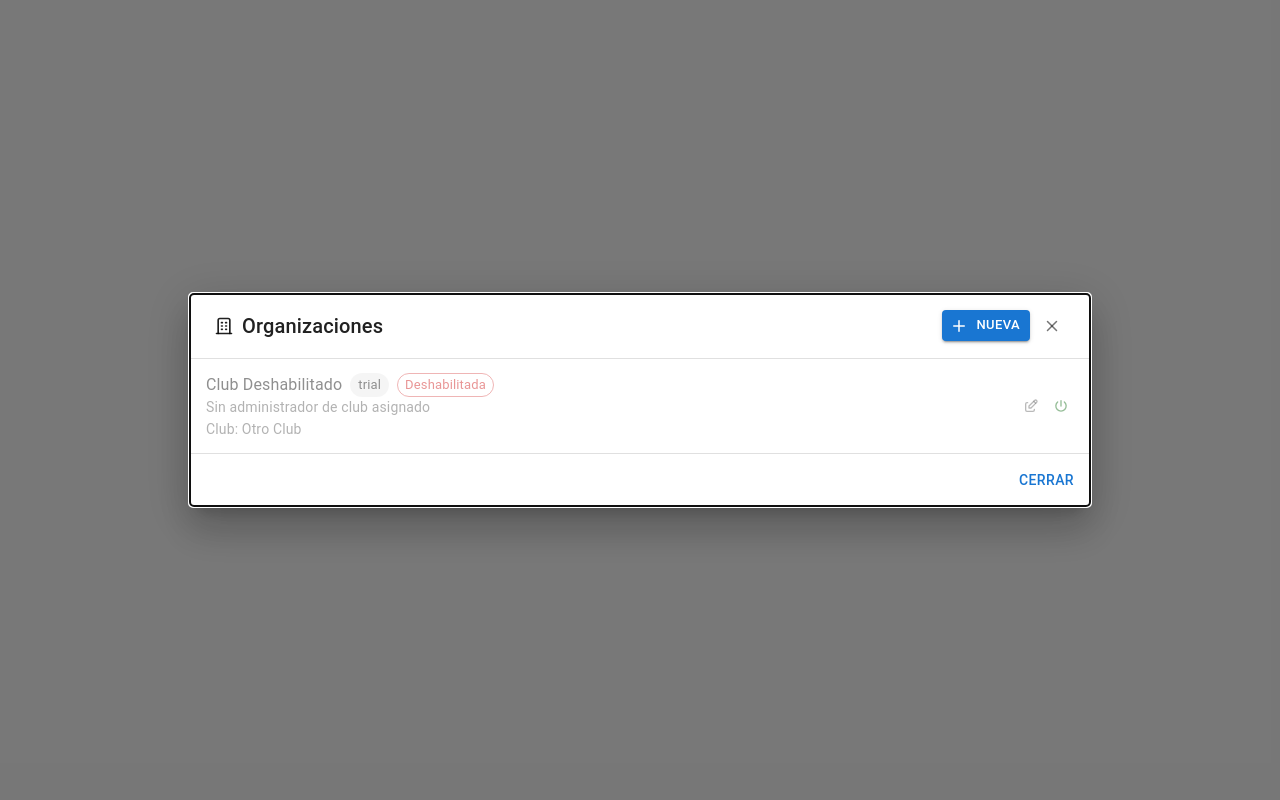
OrganizationsDialog › abre diálogo de confirmación con aviso de restauración manual al habilitar
Expected: the text "Club Deshabilitado" is shown, [206, 375, 342, 394]
Click the button named "Habilitar organización". click: (1061, 406)
box: [1048, 393, 1074, 419]
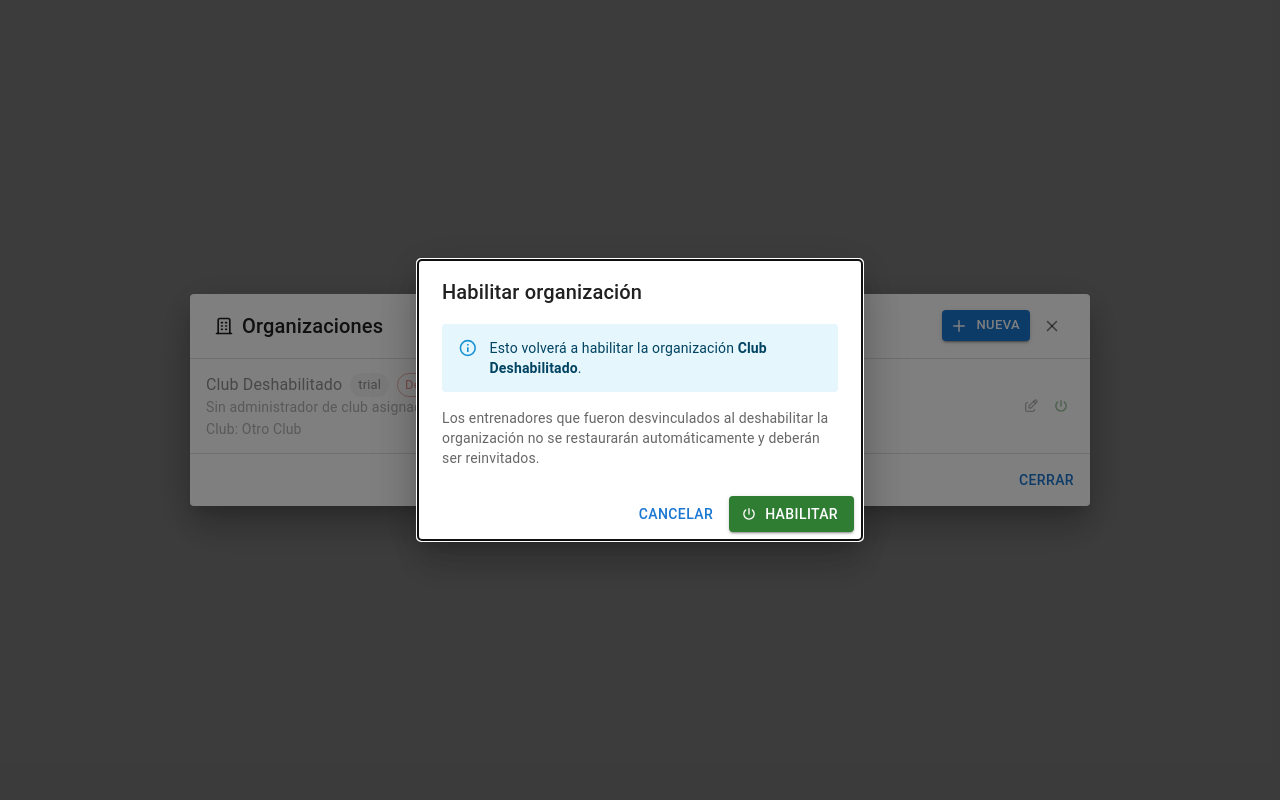
Expected: the heading "Habilitar organización" is shown, [442, 280, 642, 304]
Expected: the text "deberán ser reinvitados" is shown, [442, 410, 828, 466]
